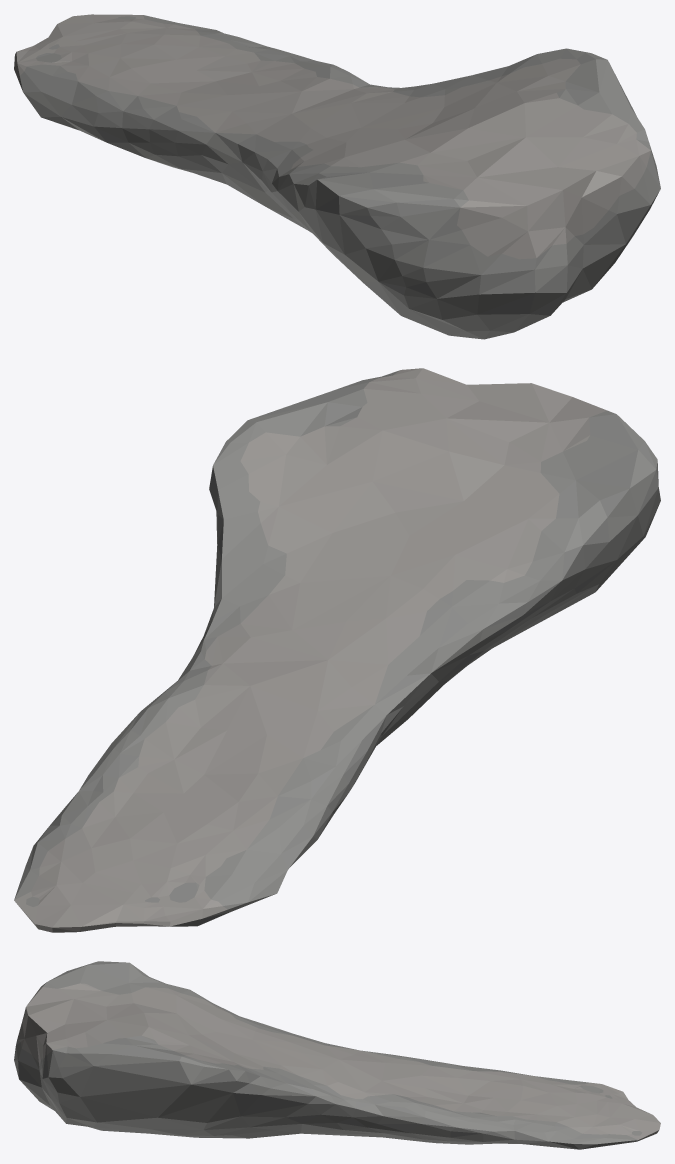
Rendered from Cavern_Floor_Narrow_Ramp_Lrg-01.fbx.
3 renders of one model, top to bottom at view 1: azimuth 30°, elevation 25°; view 2: azimuth 150°, elevation 25°; view 3: azimuth 270°, elevation 25°, orthographic. The views are drawn at different scales.
Parts seen in each view (by area): view 1: Cavern_Floor_Narrow_Ramp_Lrg-01; view 2: Cavern_Floor_Narrow_Ramp_Lrg-01; view 3: Cavern_Floor_Narrow_Ramp_Lrg-01.
Part boxes in pixels (x1=…): Cavern_Floor_Narrow_Ramp_Lrg-01: x1=14, y1=14, x2=660, y2=339; Cavern_Floor_Narrow_Ramp_Lrg-01: x1=14, y1=368, x2=660, y2=932; Cavern_Floor_Narrow_Ramp_Lrg-01: x1=14, y1=961, x2=660, y2=1149.
Size of the model in its own units: 988 by 549 by 2412.
Materials: 1 (1 with a texture image).
